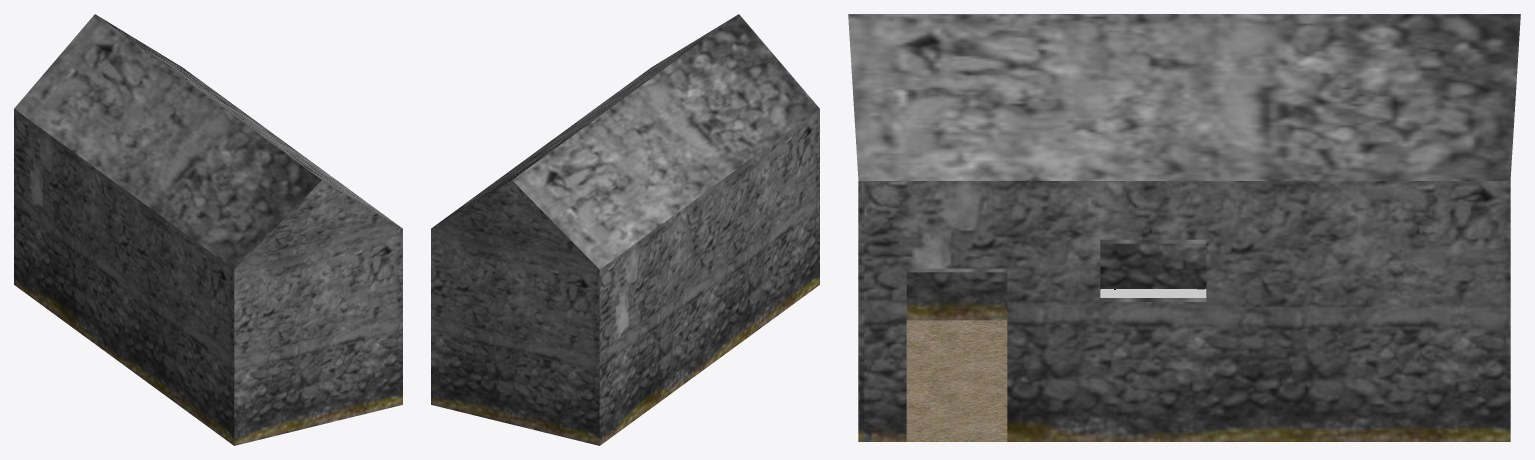
Rendered from FarmShedInside.fbx.
The picture shows the model from 3 angles, left to right: view 1: azimuth 30°, elevation 25°; view 2: azimuth 150°, elevation 25°; view 3: azimuth 270°, elevation 25°; orthographic projection. The views are drawn at different scales.
Visible parts, largest first — view 1: Shed; view 2: Shed; view 3: Shed, LightRay.
Part boxes in pixels (x1,y1,x2,y2): Shed: [14, 14, 402, 445]; Shed: [431, 14, 819, 445]; Shed: [848, 14, 1520, 441]; LightRay: [1100, 289, 1206, 297].
Bounding box in the file's own units: 470 × 640 × 1062.
